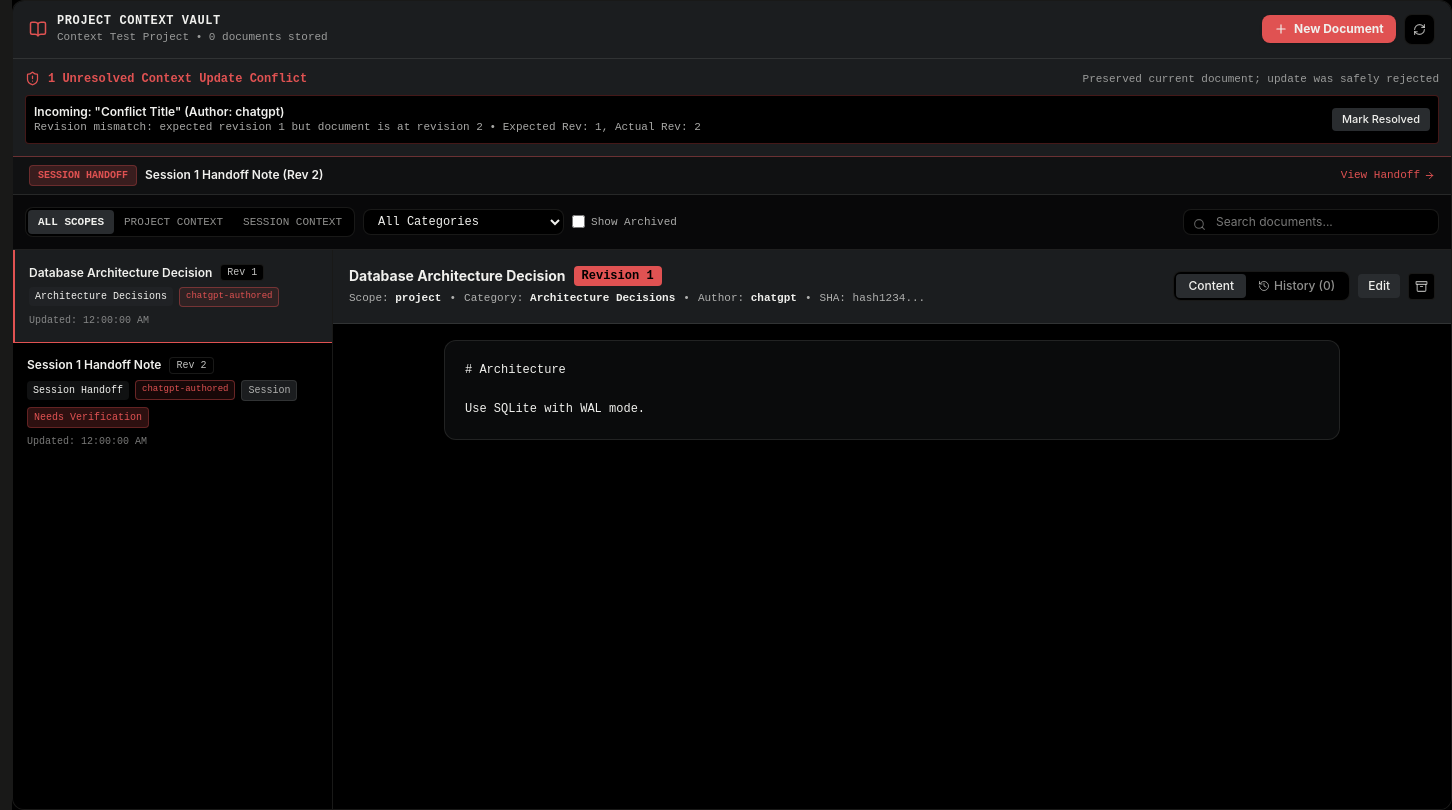
Test case: ContextVaultPanel Component › switches between Content, History, and Diff tabs
The width and height of the screenshot is (1452, 810).
# Click on ctx-2 (which has 2 revisions)
Click the button "Session 1 Handoff Note" at (172,403), box [13,343,332,463]
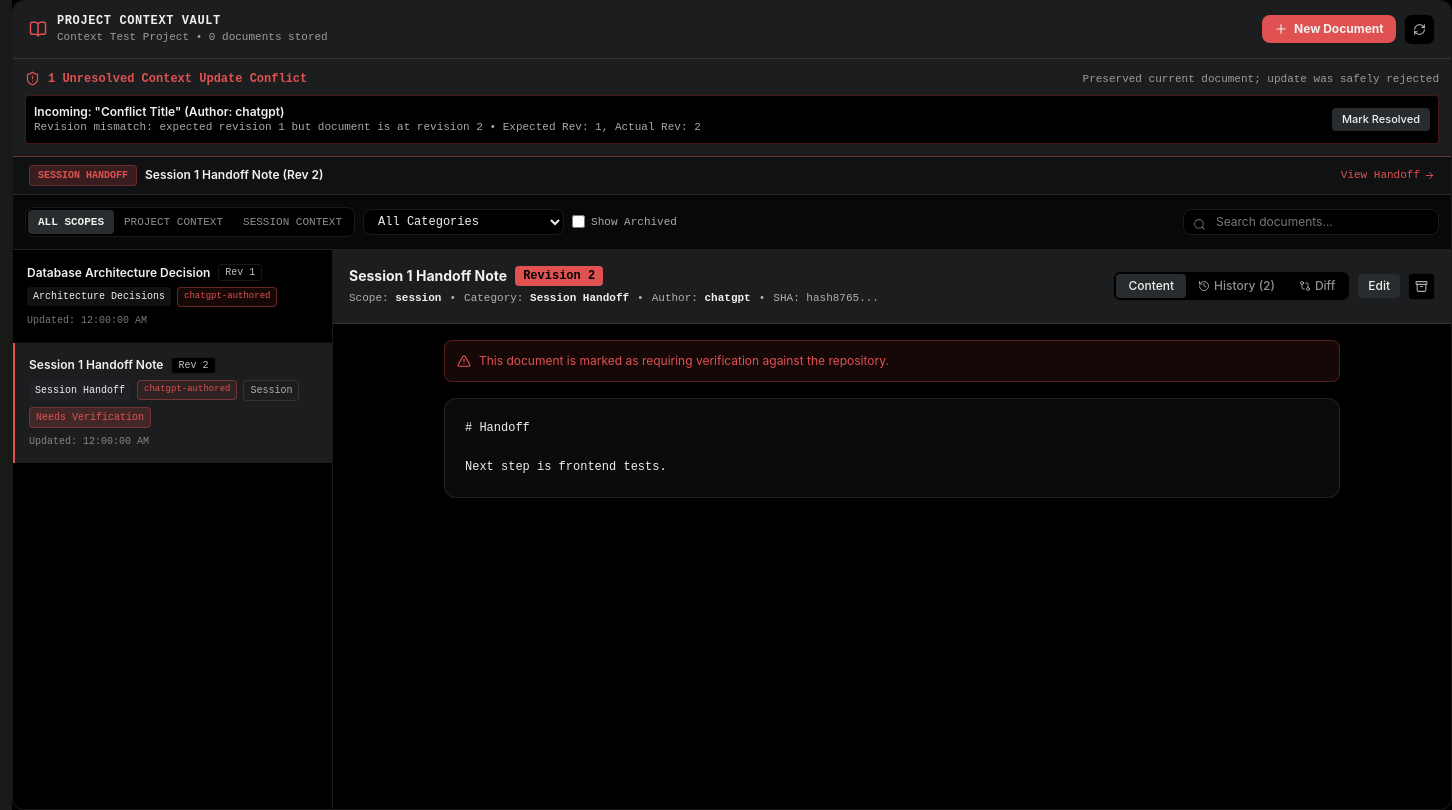
Check: the text "# Handoff Next step is frontend tests." is shown, box [444,398,1340,498]
# Switch to History tab
Click the button "History (2)" at (1236,286), box [1186,274,1287,298]
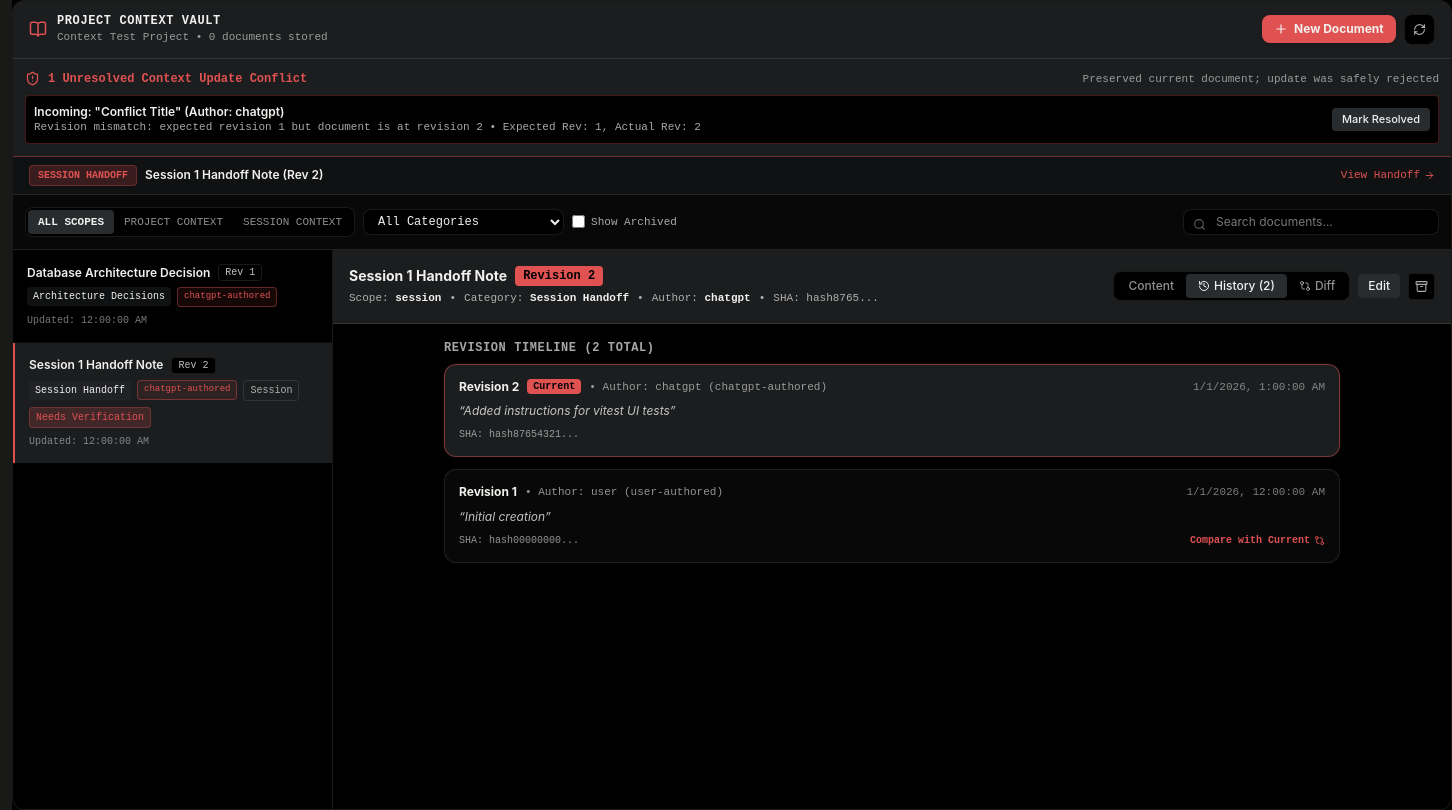
Check: the text "“Added instructions for vitest UI tests”" is shown, box [459,403,676,418]
Check: the heading "Revision Timeline (2 total)" is shown, box [444,341,655,355]
# Switch to Diff tab
Click the button "Diff" at (1317,286), box [1287,274,1347,298]
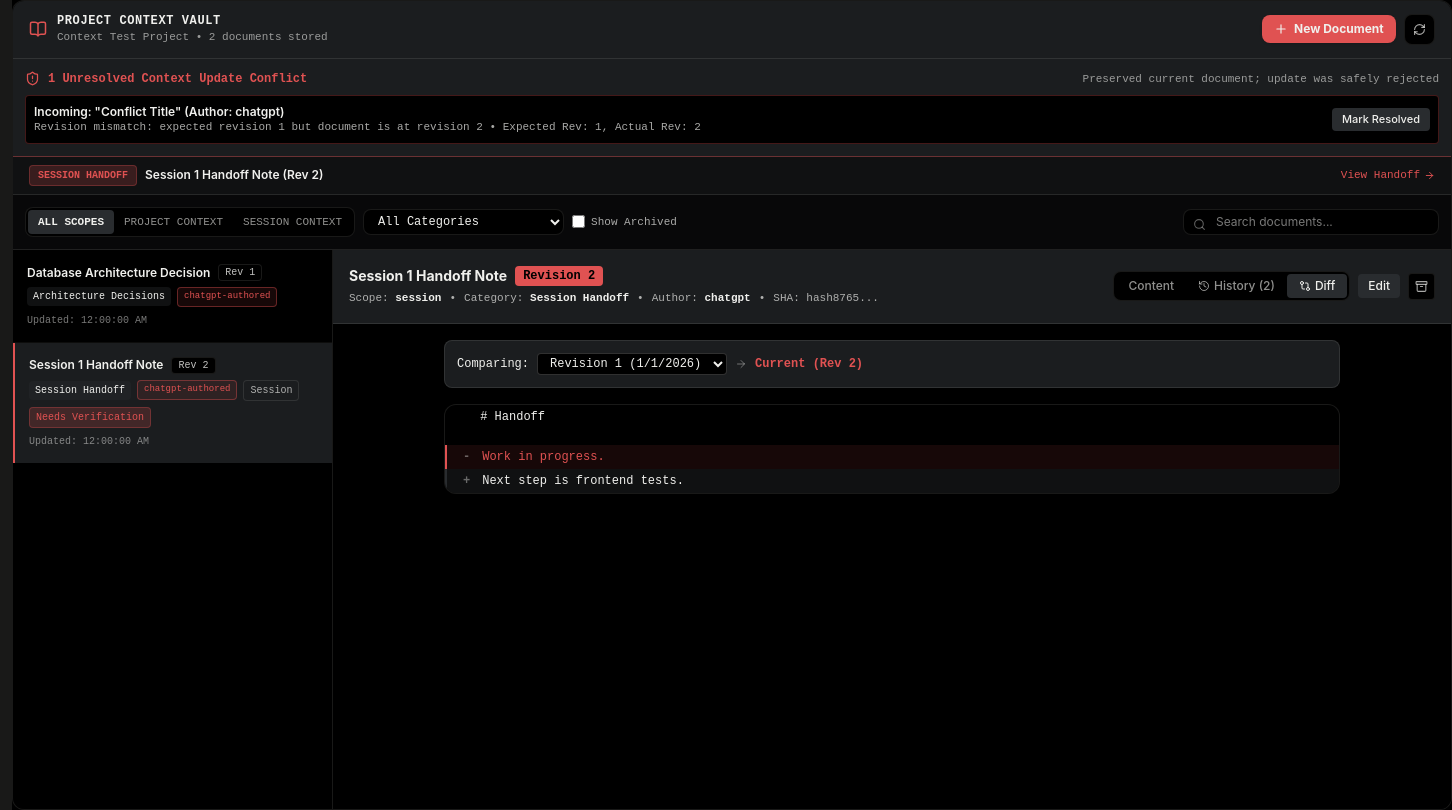
Check: the text "Comparing:" is shown, box [457,356,529,372]
